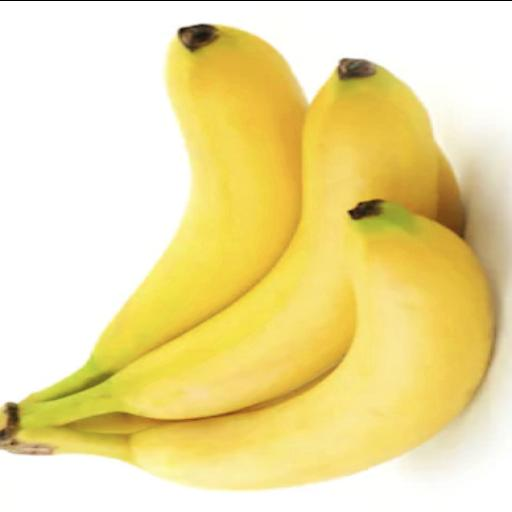banana: (7, 201, 493, 490), (55, 59, 439, 424), (33, 25, 307, 399), (64, 413, 176, 434), (65, 413, 175, 434)
